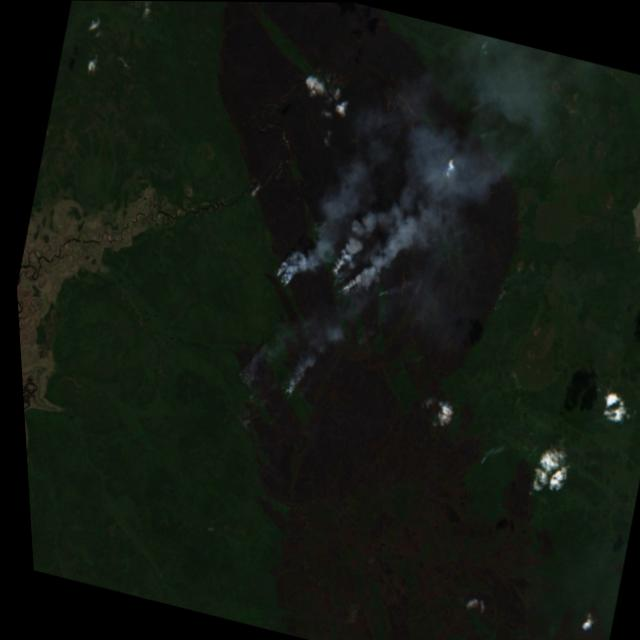fire: (219, 332, 268, 409), (270, 352, 316, 414), (316, 249, 362, 300), (267, 257, 298, 293), (468, 444, 487, 470)
